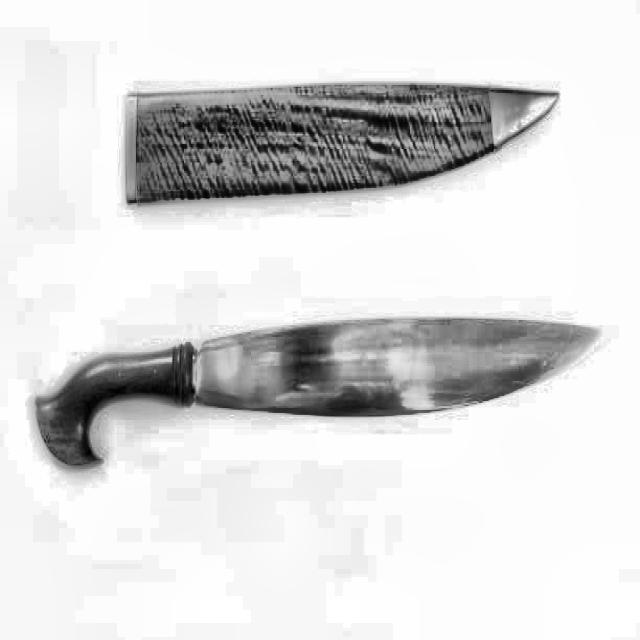pisau: (28, 305, 604, 487)
